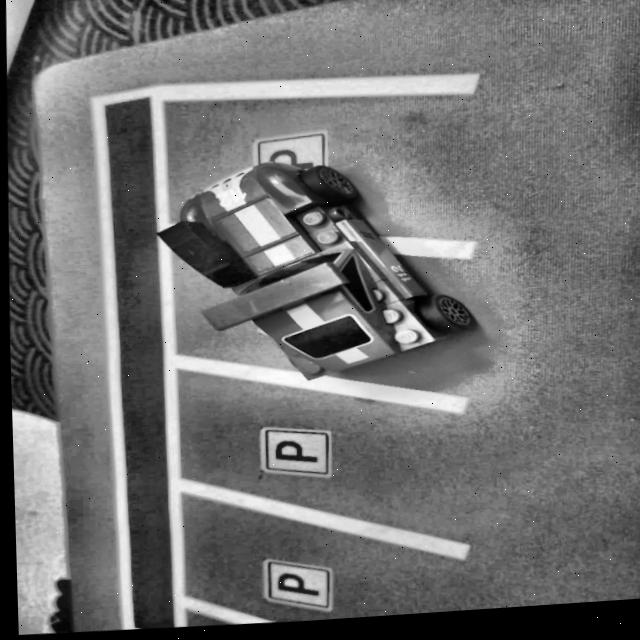car: (149, 152, 477, 395)
